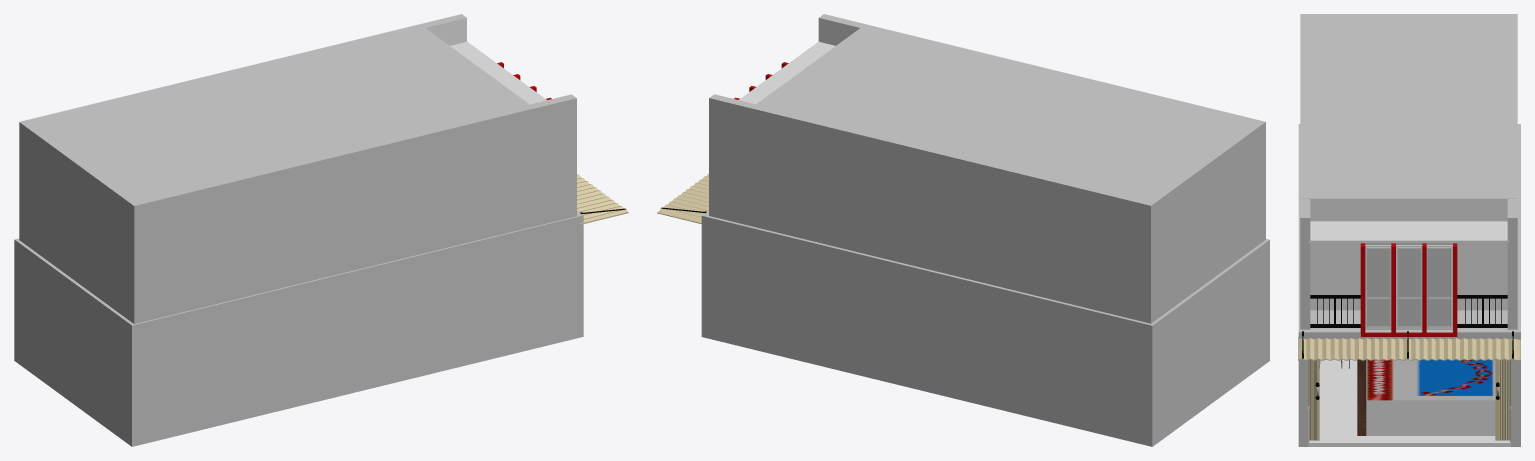
The model's file is Wrng_padangggg.fbx.
3 views of the same model, side by side, from view 1: azimuth 30°, elevation 25°; view 2: azimuth 150°, elevation 25°; view 3: azimuth 270°, elevation 25° (orthographic). The views are drawn at different scales.
Parts seen in each view (by area): view 1: Cube.253, Cube, Cube.293; view 2: Cube.253, Cube, Cube.293; view 3: Cube.253, Cube, Cube.001, Cube.251, Cube.293, Cube.252, Cube.297, Cube.250, Cube.295.
Boxes of the visible parts, box(x1,y1,x2,y2) form: Cube.253: box(19, 14, 576, 323); Cube: box(14, 211, 583, 446); Cube.293: box(577, 174, 628, 224); Cube.253: box(709, 14, 1265, 323); Cube: box(701, 210, 1269, 446); Cube.293: box(657, 173, 708, 223); Cube.253: box(1300, 14, 1517, 329); Cube: box(1298, 124, 1520, 446); Cube.001: box(1357, 359, 1495, 435); Cube.251: box(1365, 245, 1452, 328); Cube.293: box(1298, 337, 1520, 360); Cube.252: box(1360, 243, 1457, 336); Cube.297: box(1495, 359, 1510, 440); Cube.250: box(1310, 295, 1507, 327); Cube.295: box(1308, 359, 1319, 440).
Bounding box in the file's own units: 7119 × 3283 × 2929.
